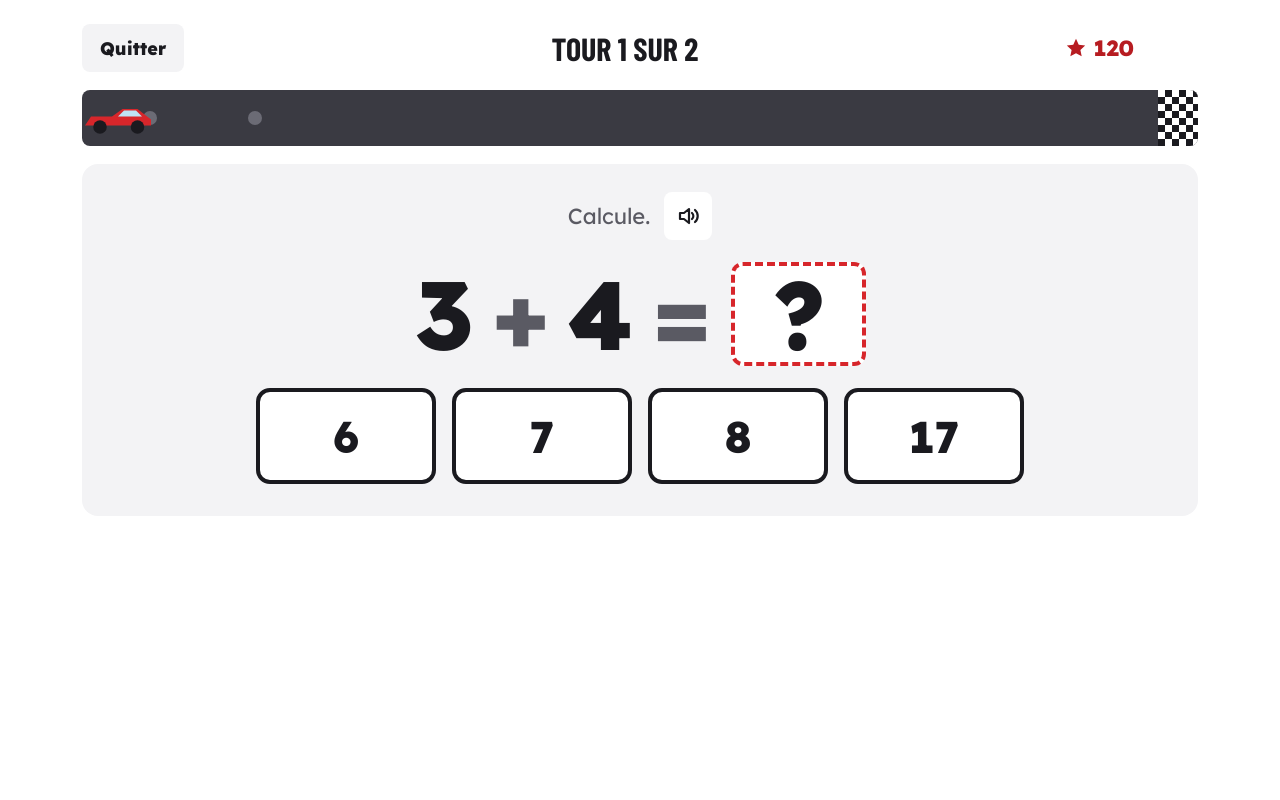
Test: SeriesScreen › choice mode: four tiles, the picked one is checked by the host
Click the button "8": [738, 436] box [648,388,828,484]
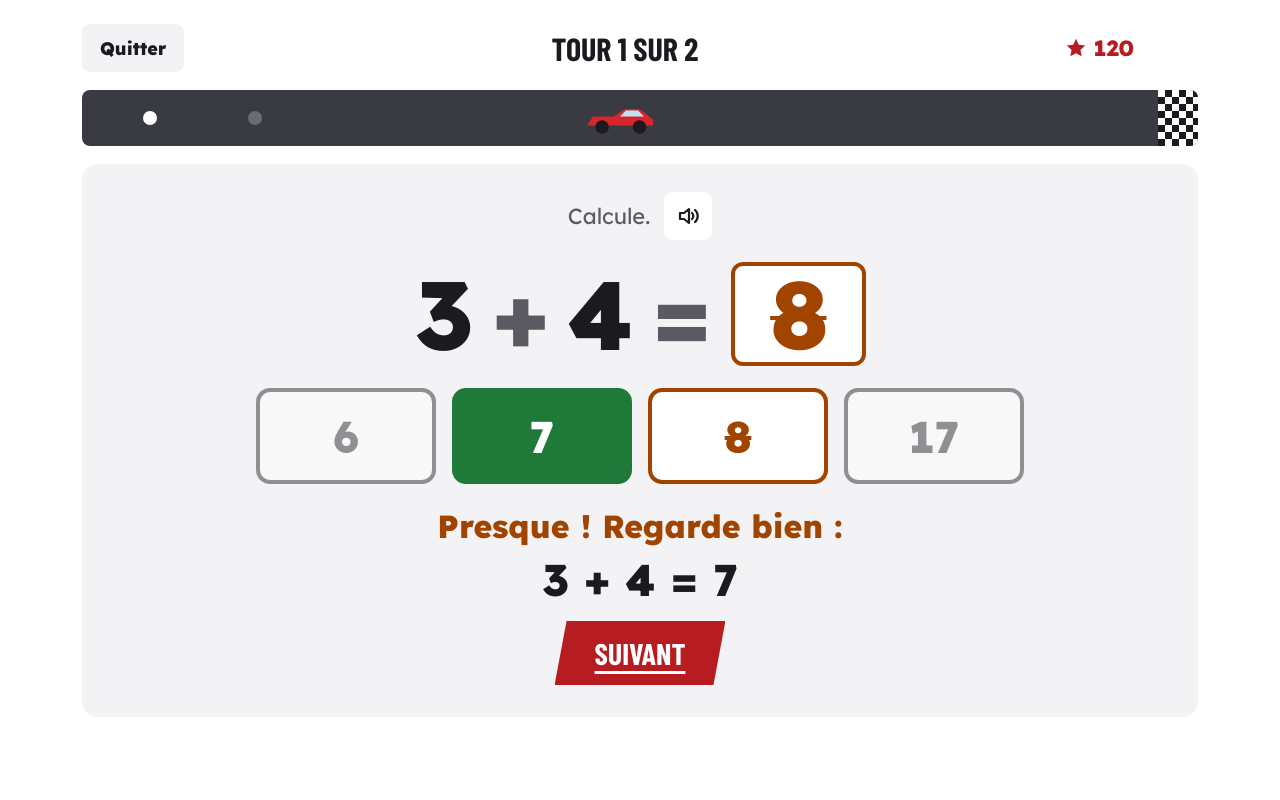
expect the text "3 + 4 = 7" is shown: met, box [542,552,738,607]
